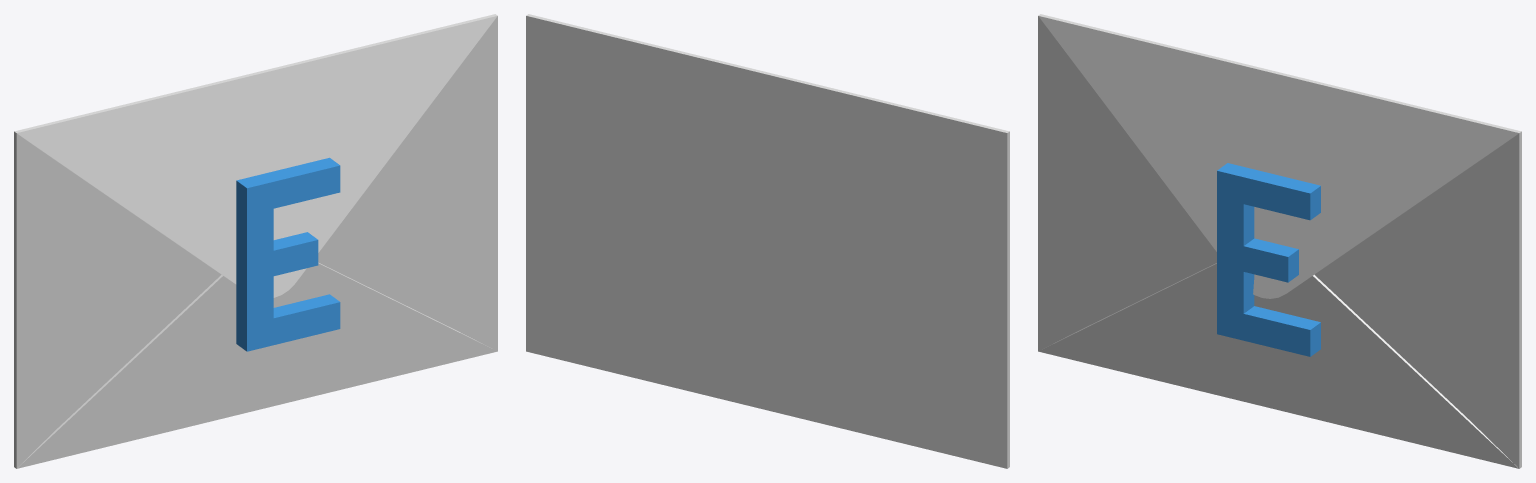
Rendered from email.glb.
3 views of the same model, side by side, from view 1: azimuth 30°, elevation 25°; view 2: azimuth 150°, elevation 25°; view 3: azimuth 330°, elevation 25° (orthographic).
Parts seen in each view (by area): view 1: Plane.333; view 2: Plane.333; view 3: Plane.333.
Boxes of the visible parts, x1,y1,x2,y2 form: Plane.333: (14, 14, 497, 468); Plane.333: (526, 14, 1009, 468); Plane.333: (1038, 14, 1521, 468).
Size of the model in its own units: 2.34 by 1.56 by 0.2377.
Materials: 1 (1 with a texture image).
